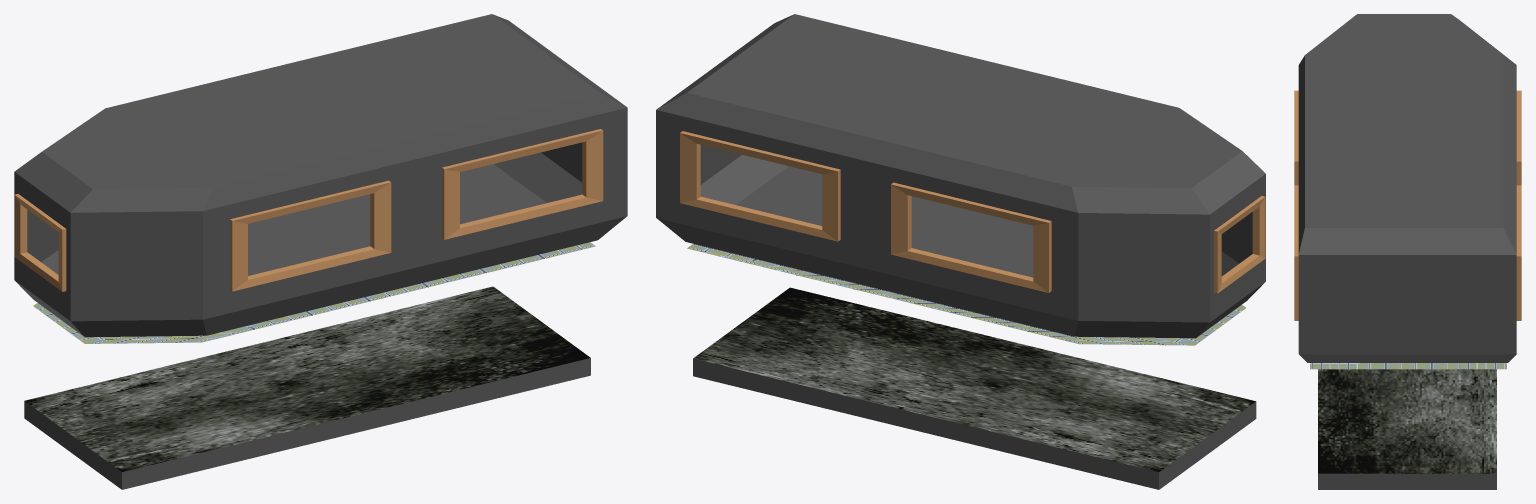
Rendered from techo y suelo .fbx.
The picture shows the model from 3 angles, left to right: view 1: azimuth 30°, elevation 25°; view 2: azimuth 150°, elevation 25°; view 3: azimuth 270°, elevation 25°; orthographic projection. The views are drawn at different scales.
Visible parts, largest first — view 1: estructura de edificio, suelo, techo; view 2: estructura de edificio, suelo, techo; view 3: estructura de edificio, suelo, techo.
Boxes of the visible parts, box(x1,y1,x2,y2) form: estructura de edificio: box(14, 14, 627, 337); suelo: box(24, 286, 590, 489); techo: box(33, 242, 595, 343); estructura de edificio: box(656, 14, 1265, 338); suelo: box(693, 287, 1256, 489); techo: box(687, 243, 1246, 345); estructura de edificio: box(1294, 14, 1521, 362); suelo: box(1318, 369, 1496, 489); techo: box(1310, 363, 1506, 369).
Size of the model in its own units: 6254 by 2537 by 3238.
